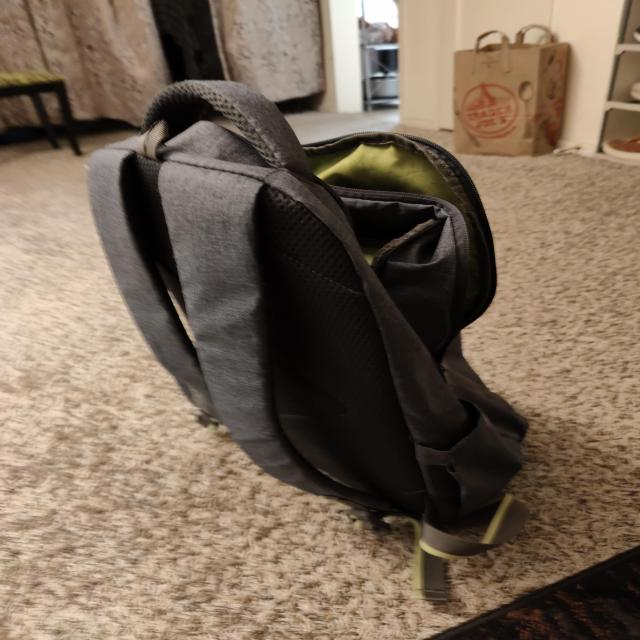bag: (88, 90, 513, 534)
